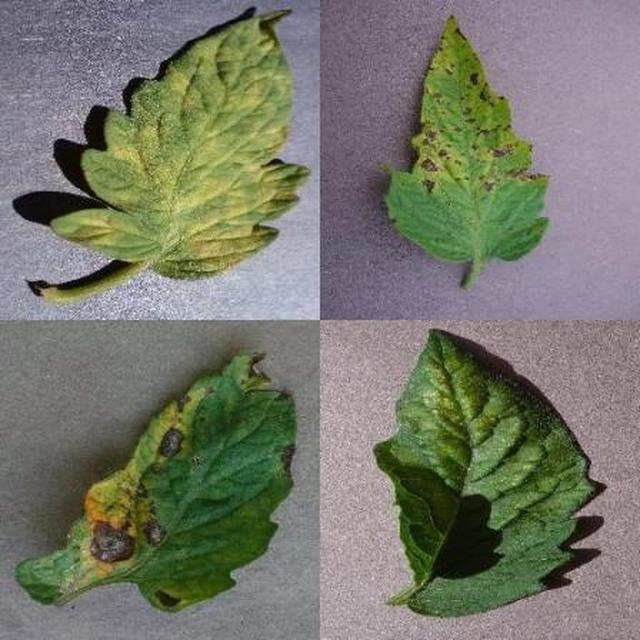Leaf Mold: (226, 197, 640, 640)
